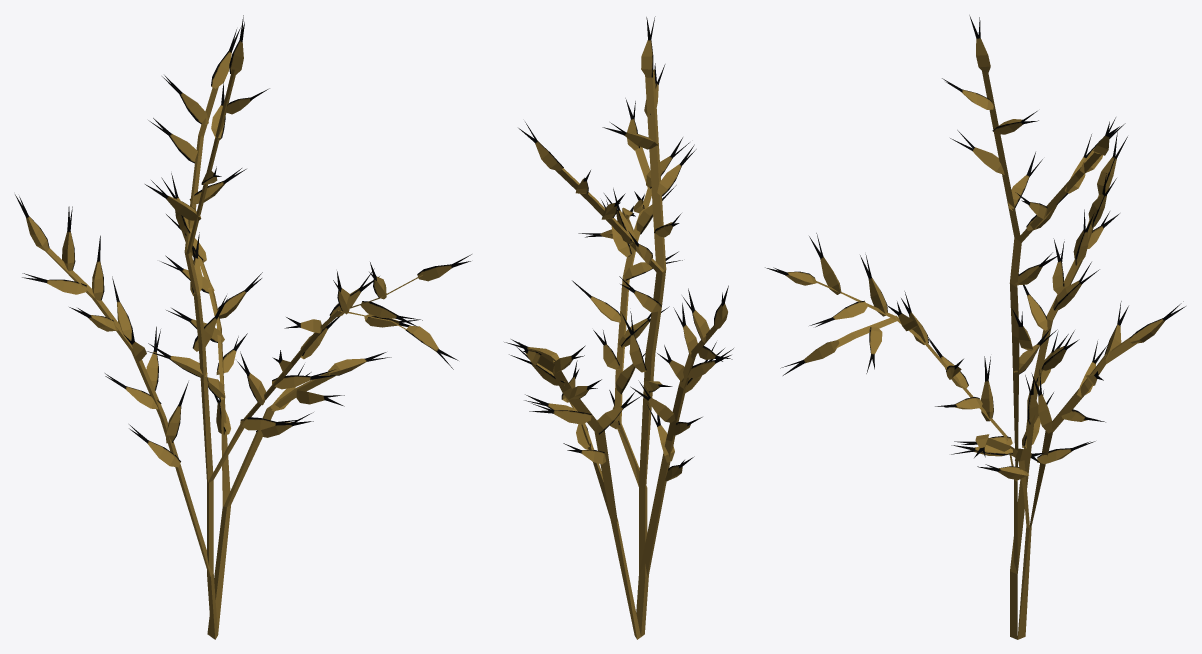
Rendered from heina2.fbx.
The picture shows the model from 3 angles, left to right: view 1: azimuth 30°, elevation 25°; view 2: azimuth 150°, elevation 25°; view 3: azimuth 270°, elevation 25°; orthographic projection. The views are drawn at different scales.
Visible parts, largest first — view 1: Heina; view 2: Heina; view 3: Heina.
Boxes of the visible parts, x1=… form: Heina: x1=15, y1=15, x2=471, y2=639; Heina: x1=504, y1=16, x2=733, y2=639; Heina: x1=765, y1=15, x2=1185, y2=639.
Size of the model in its own units: 0.7287 by 1.45 by 0.8848.
Materials: 2 (1 with a texture image).
